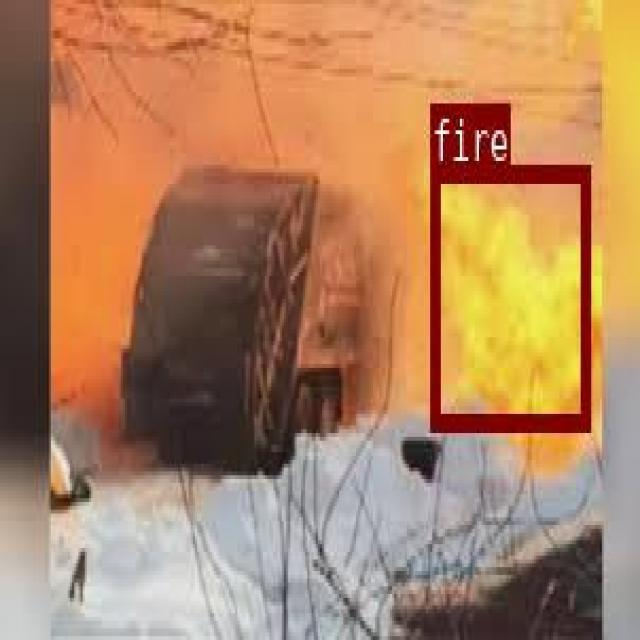fire: (429, 164, 587, 428)
